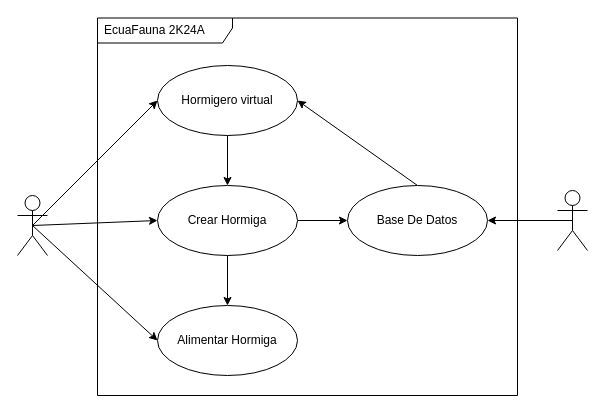
The diagram is 611 pixels wide and 413 high, and some of its shapes have lost their labels. The centre of each missing label's shape, as x and y in pixels:
Actor: the point at 32,225
Sistema: the point at 572,220
